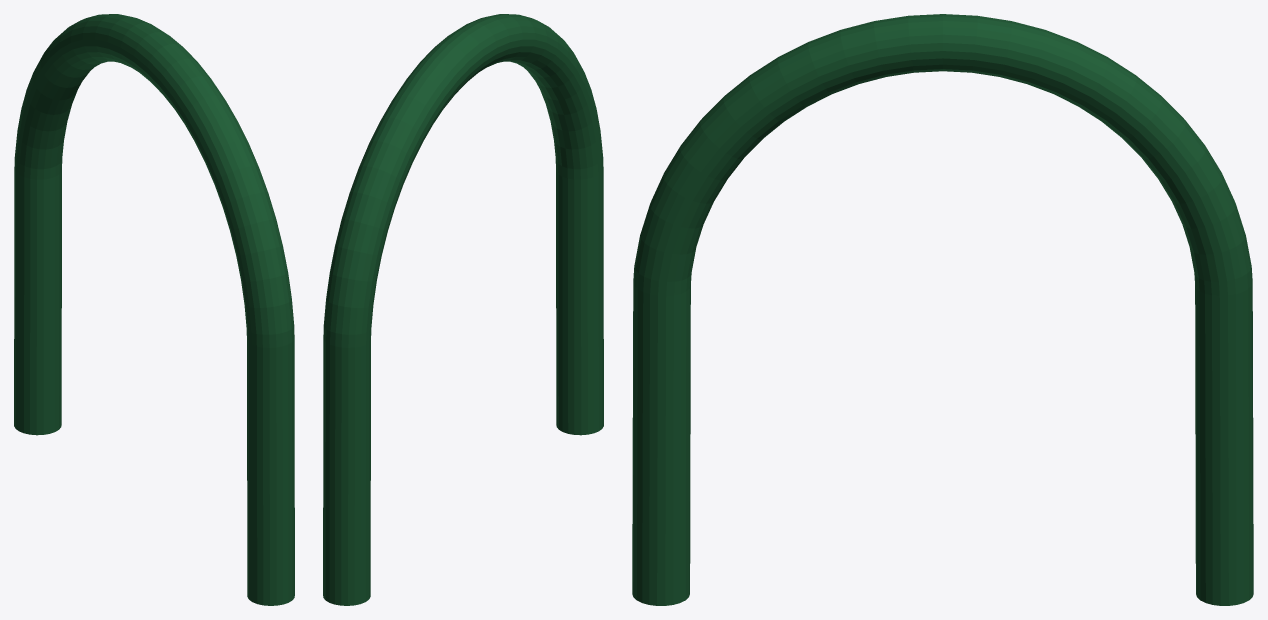
The model's file is bicicletario-u.fbx.
The picture shows the model from 3 angles, left to right: view 1: azimuth 30°, elevation 25°; view 2: azimuth 150°, elevation 25°; view 3: azimuth 270°, elevation 25°; orthographic projection. The views are drawn at different scales.
Parts seen in each view (by area): view 1: Torus; view 2: Torus; view 3: Torus.
Boxes of the visible parts, <box> form: Torus: <box>14,14,294,605</box>; Torus: <box>323,14,603,605</box>; Torus: <box>632,14,1253,605</box>.
Size of the model in its own units: 7.35 by 81.83 by 79.81.
